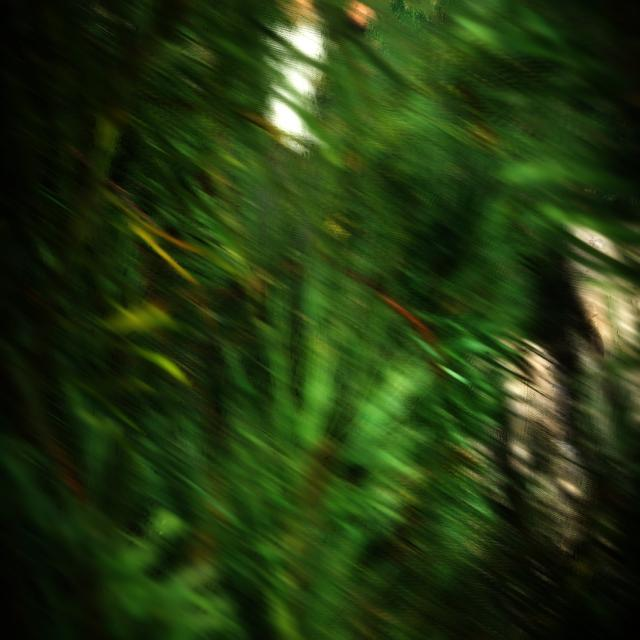Human: (256, 0, 330, 241)
